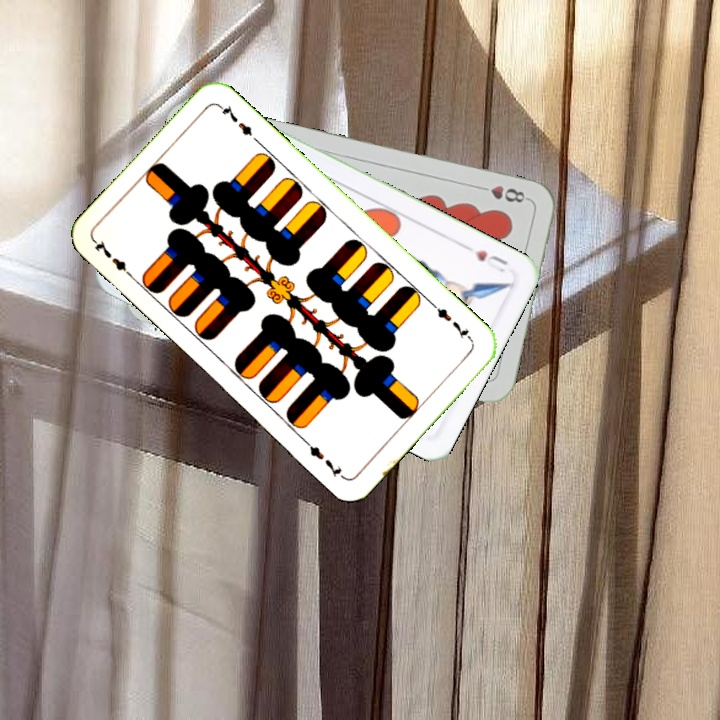E7: (90, 236, 137, 282), (428, 299, 475, 344)
H8: (473, 181, 532, 206)
HU: (460, 241, 511, 276)
